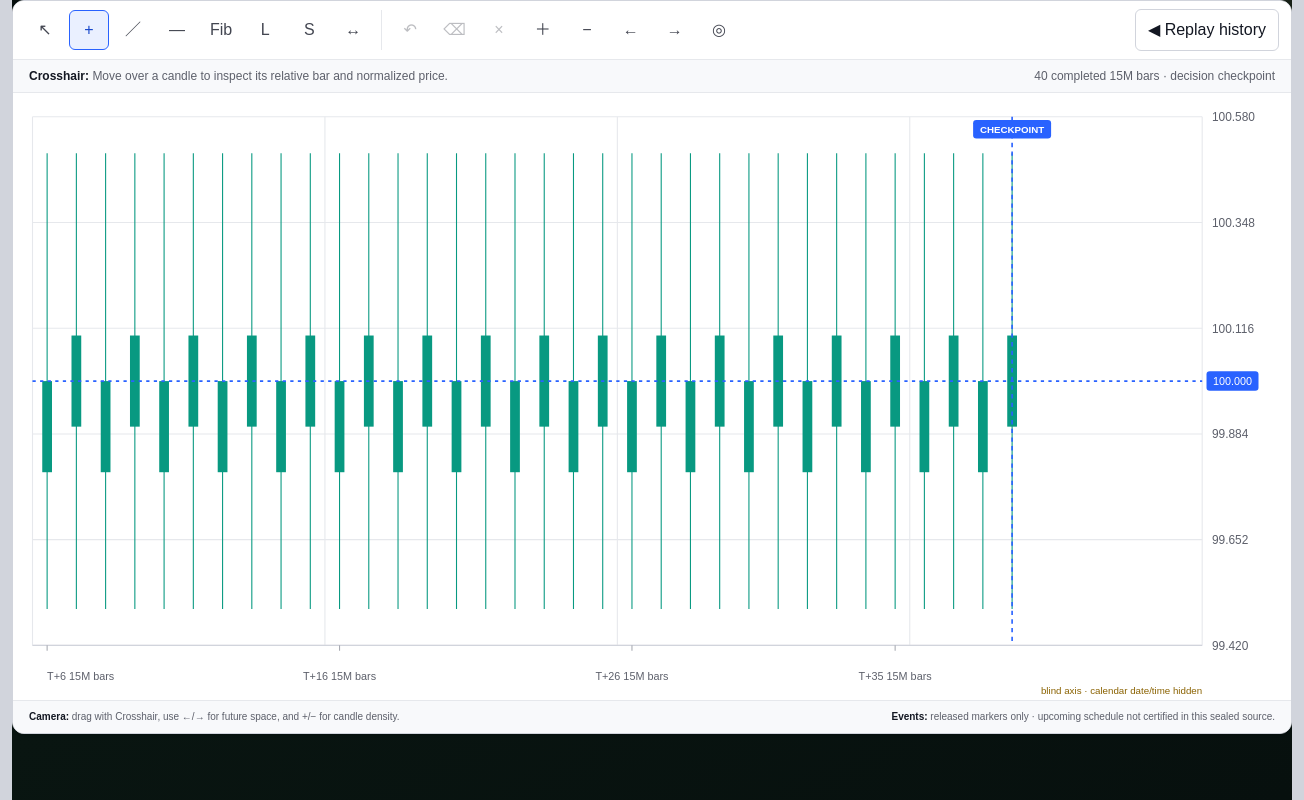
Test case: ReplayChartWorkspace › allows annotations on revealed replay candles while execution tools stay locked
Click the button "◀ Replay history" at (1207, 30), box 1135,9 -> 1279,51
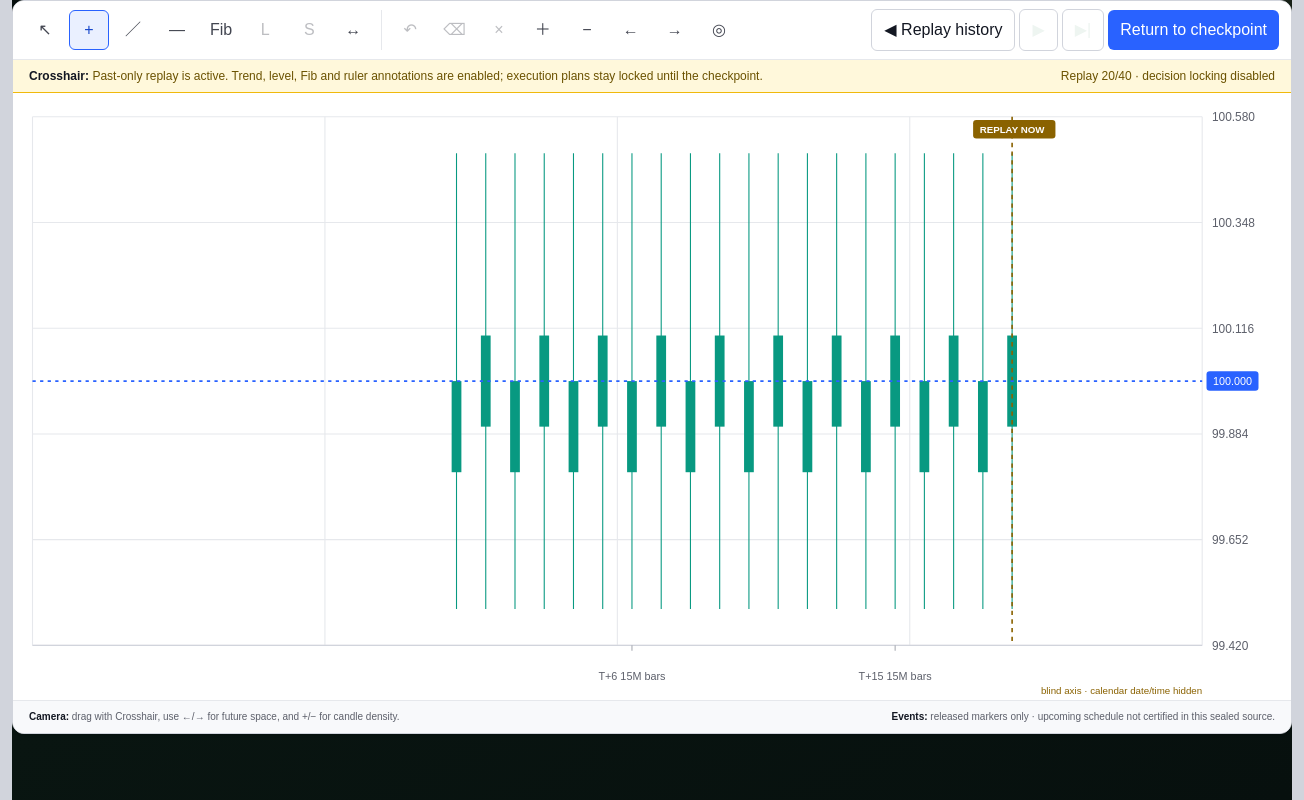
Result: the button named "Long position" is disabled at 245,10 -> 285,50
Result: the button named "Short position" is disabled at 289,10 -> 329,50
Click the button named "Horizontal level" at (177, 30), box 157,10 -> 197,50
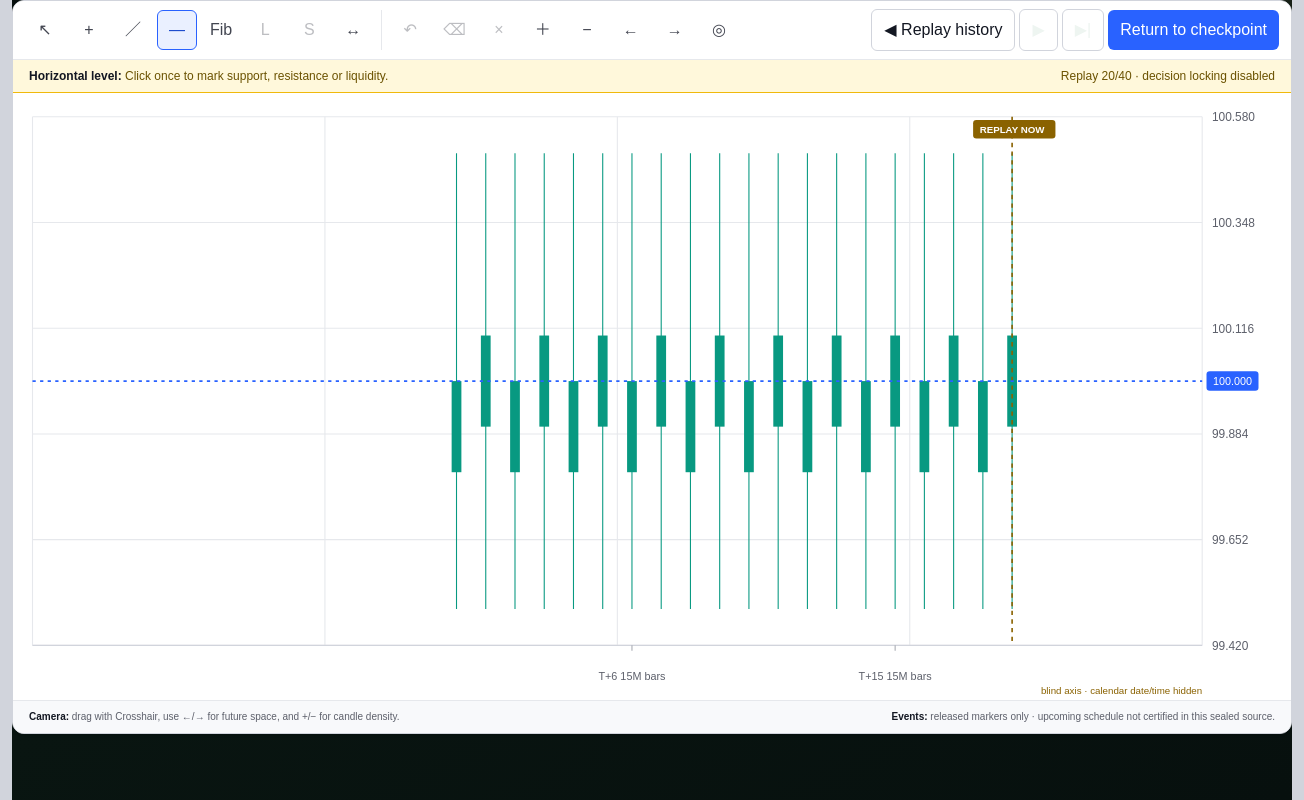
Click the picture with test id "blind-replay-chart" at (652, 396), box 13,93 -> 1291,700
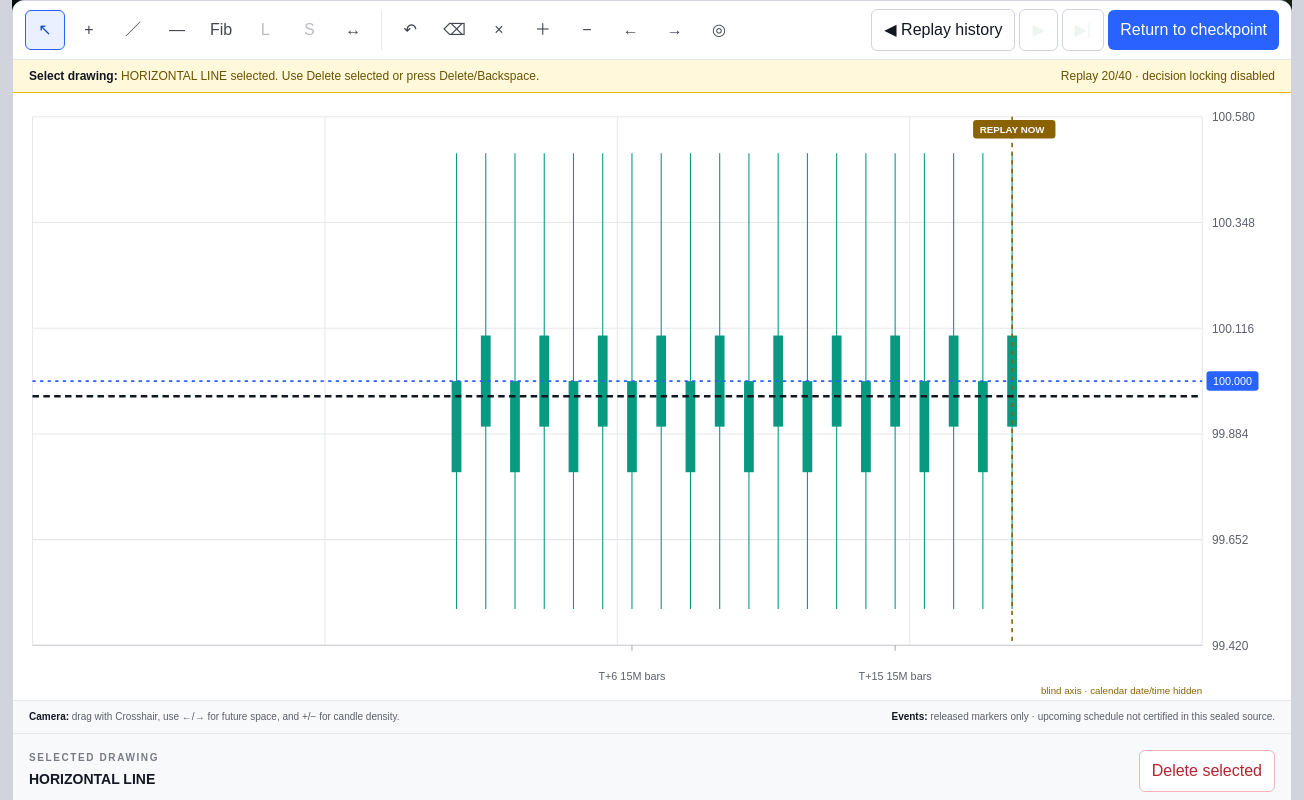
Click the button named "Crosshair" at (89, 30), box 69,10 -> 109,50
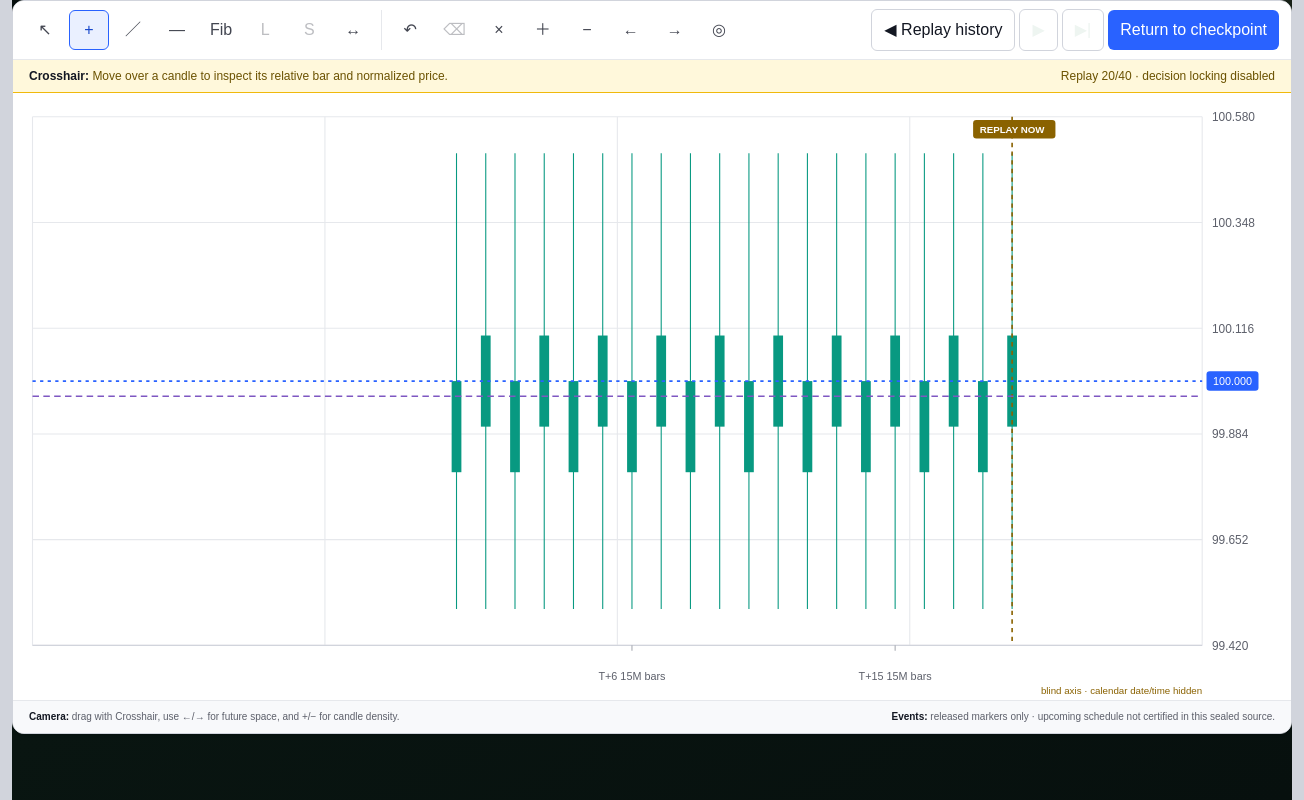
Result: the picture with test id "blind-replay-chart" has attribute data-revealed-bars="20"
Click the button "Return to checkpoint" at (1194, 30), box 1108,10 -> 1279,50
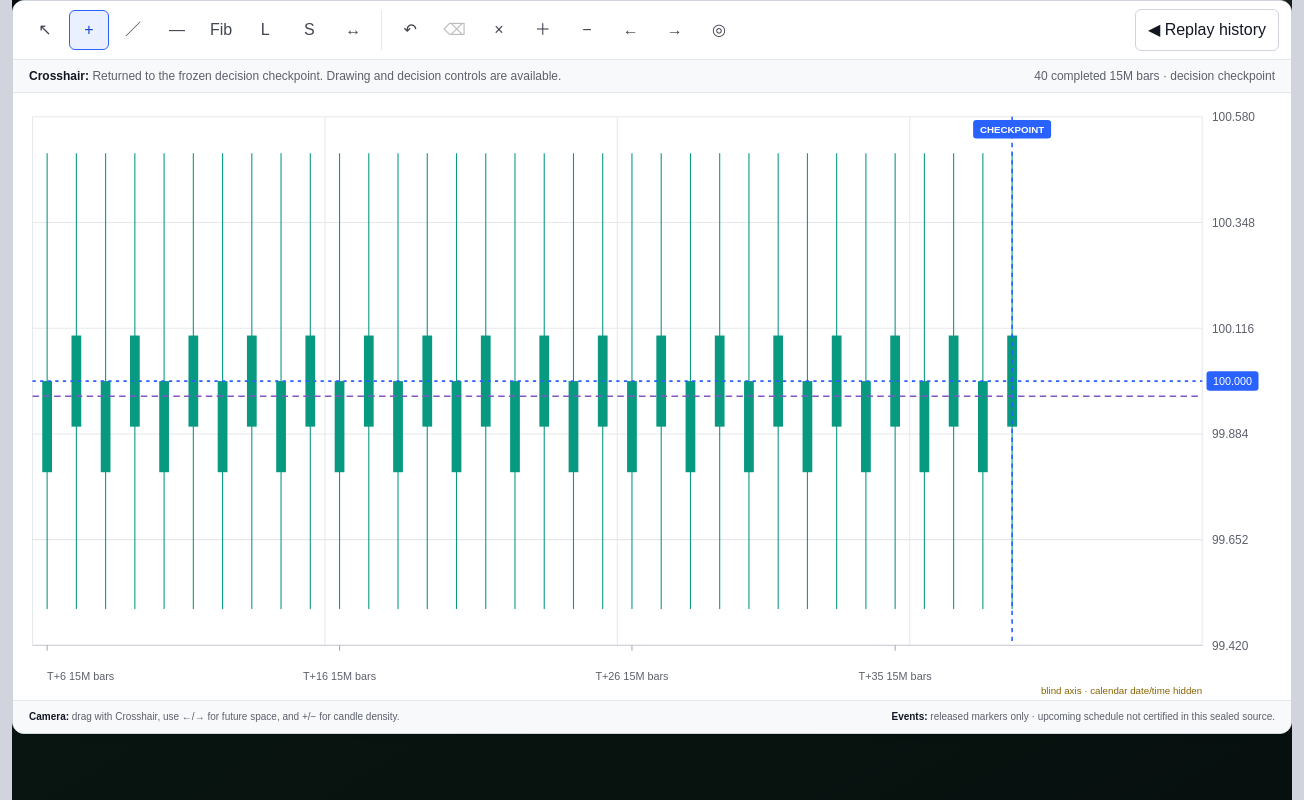
Result: the button named "Long position" is enabled at 245,10 -> 285,50
